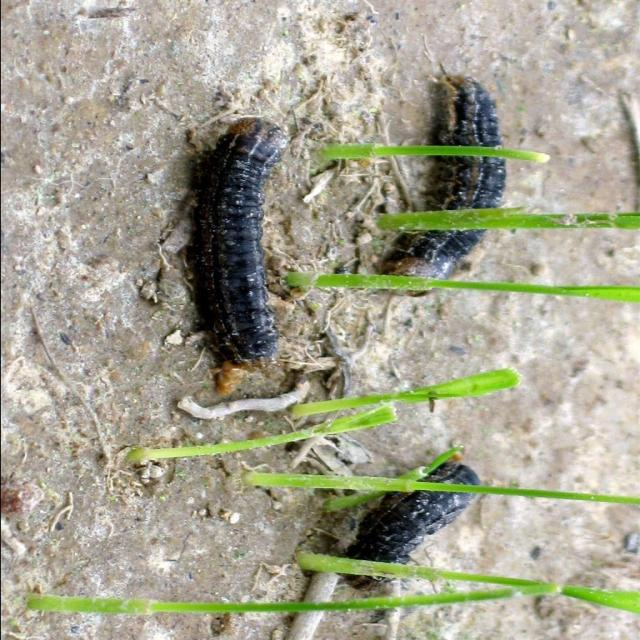army worm: (373, 81, 512, 303), (203, 119, 287, 376), (334, 461, 486, 598)
